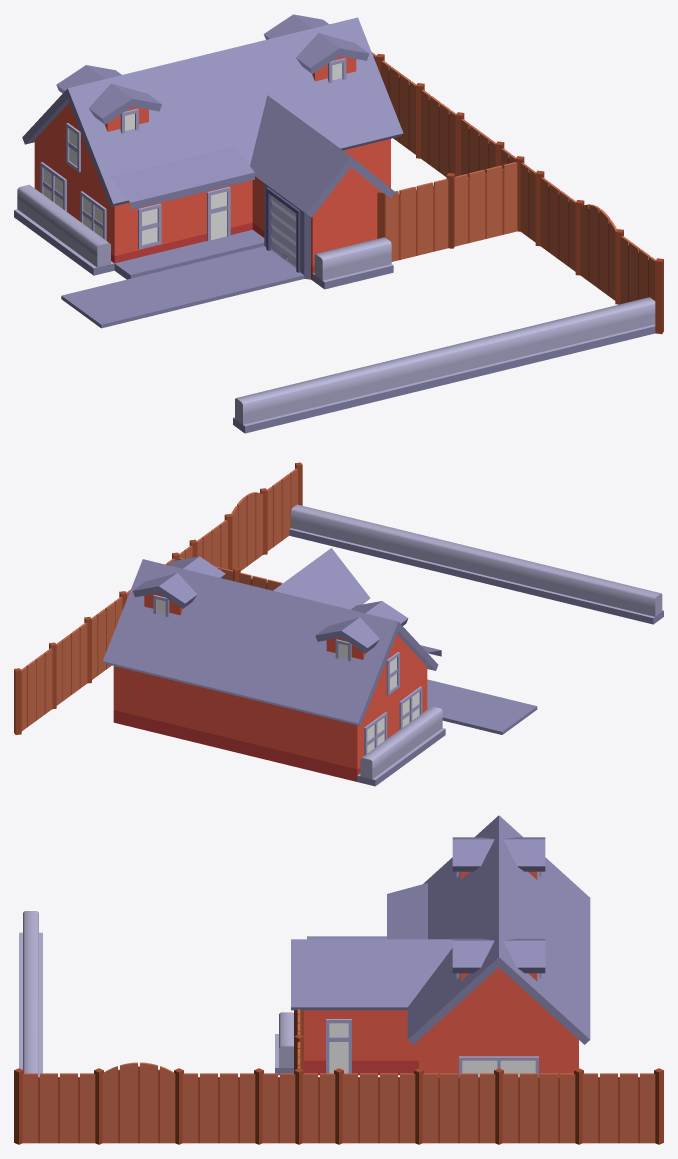
The model's file is House_003.fbx.
The picture shows the model from 3 angles, top to bottom: view 1: azimuth 30°, elevation 25°; view 2: azimuth 150°, elevation 25°; view 3: azimuth 270°, elevation 25°; orthographic projection. The views are drawn at different scales.
Visible parts, largest first — view 1: mergedBlocks; view 2: mergedBlocks; view 3: mergedBlocks.
Part boxes in pixels (x1,y1,x2,y2): mergedBlocks: (14,14,663,433); mergedBlocks: (14,462,663,786); mergedBlocks: (14,815,663,1144).
Size of the model in its own units: 303 by 107 by 406.
